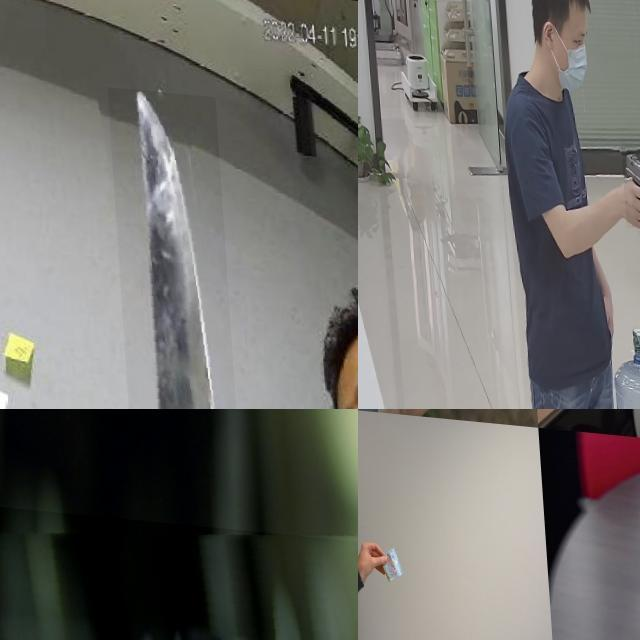-: (105, 80, 239, 409)
gun-knife-thesis - v11 Yolov5 augmented: (0, 499, 358, 640), (618, 134, 640, 223)
